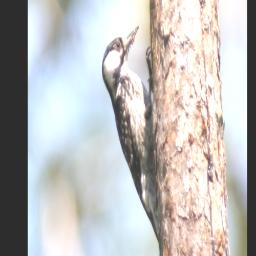Woodpecker: (101, 23, 159, 255)
